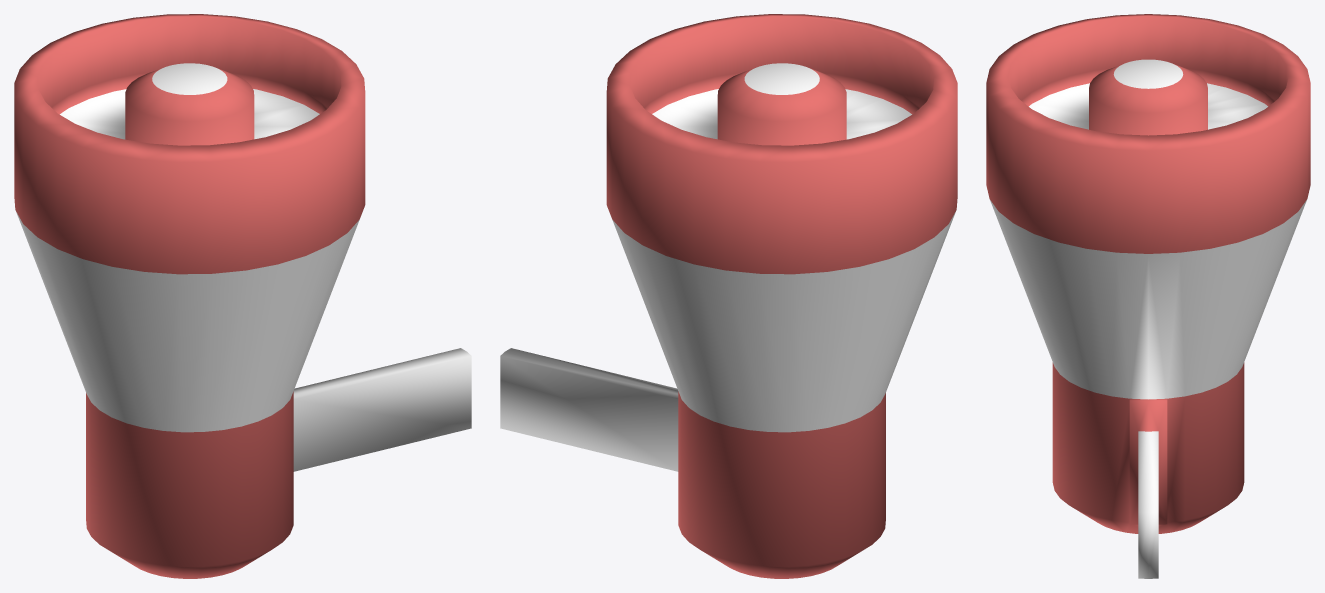
Rendered from Megaphone.glb.
3 views of the same model, side by side, from view 1: azimuth 30°, elevation 25°; view 2: azimuth 150°, elevation 25°; view 3: azimuth 270°, elevation 25° (orthographic). The views are drawn at different scales.
Visible parts, largest first — view 1: Megaphone; view 2: Megaphone; view 3: Megaphone.
Boxes of the visible parts, box(x1,y1,x2,y2) form: Megaphone: box(14, 14, 471, 578); Megaphone: box(500, 14, 957, 578); Megaphone: box(986, 14, 1310, 578).
Bounding box in the file's own units: 11.15 × 11.7 × 7.91.
